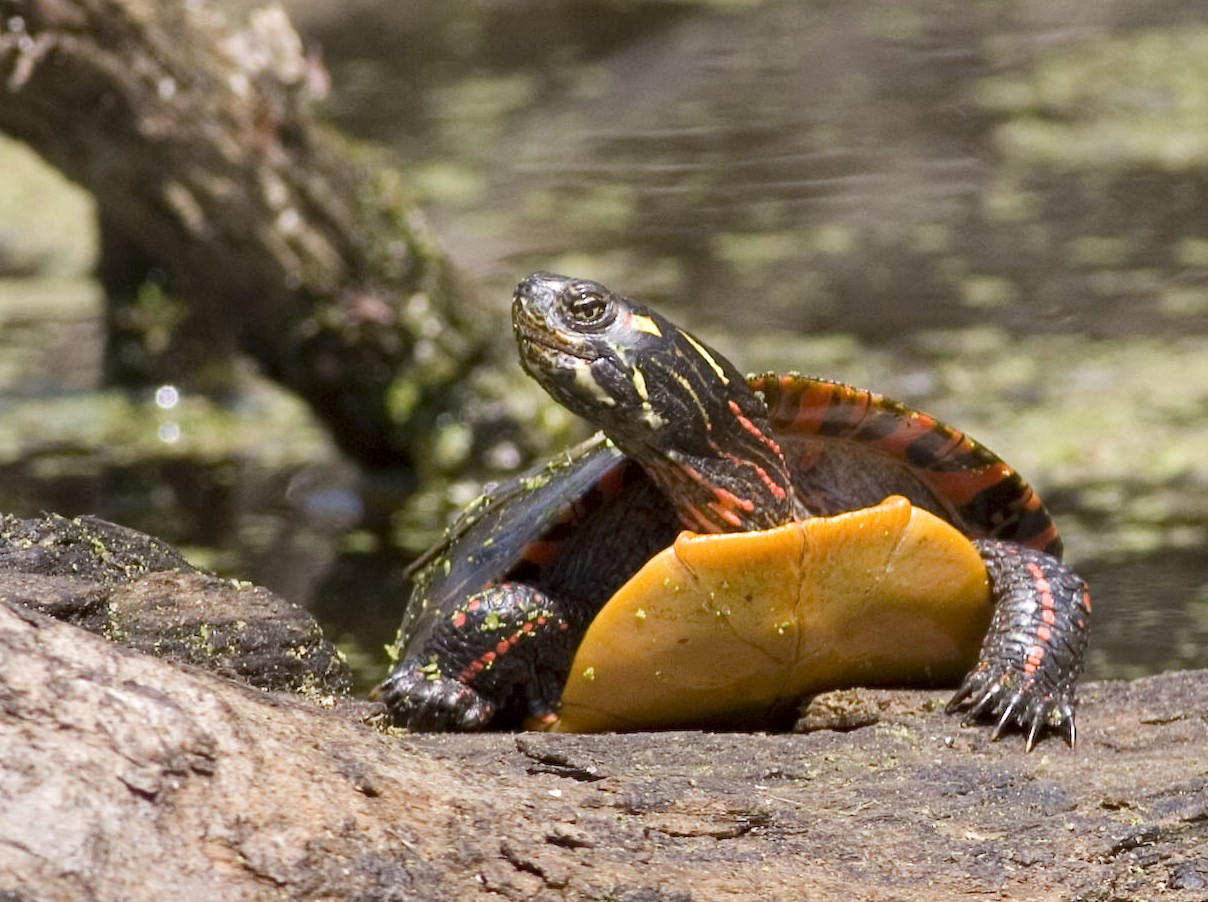eye: (561, 283, 620, 337)
mouth: (510, 321, 628, 378)
